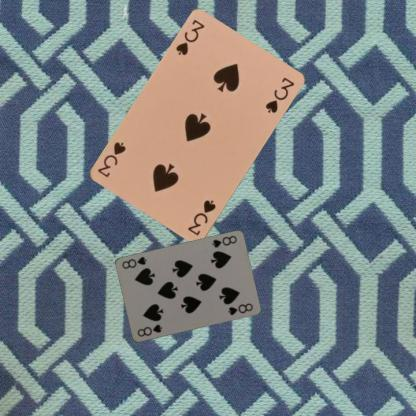3s: (173, 17, 206, 57), (185, 197, 217, 237)
8s: (209, 233, 238, 249), (135, 322, 163, 338)
